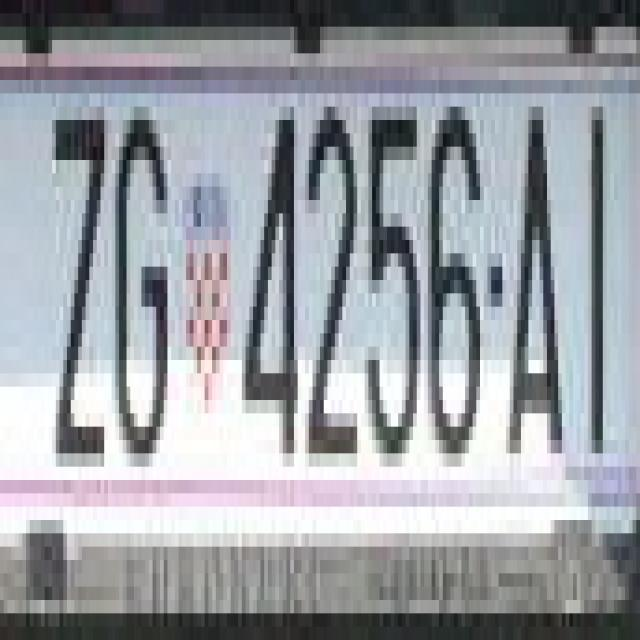2: (305, 93, 354, 467)
4: (242, 106, 306, 466)
5: (372, 106, 413, 454)
6: (421, 106, 484, 466)
A: (510, 94, 570, 454)
G: (112, 120, 172, 480)
Z: (48, 94, 108, 454)
